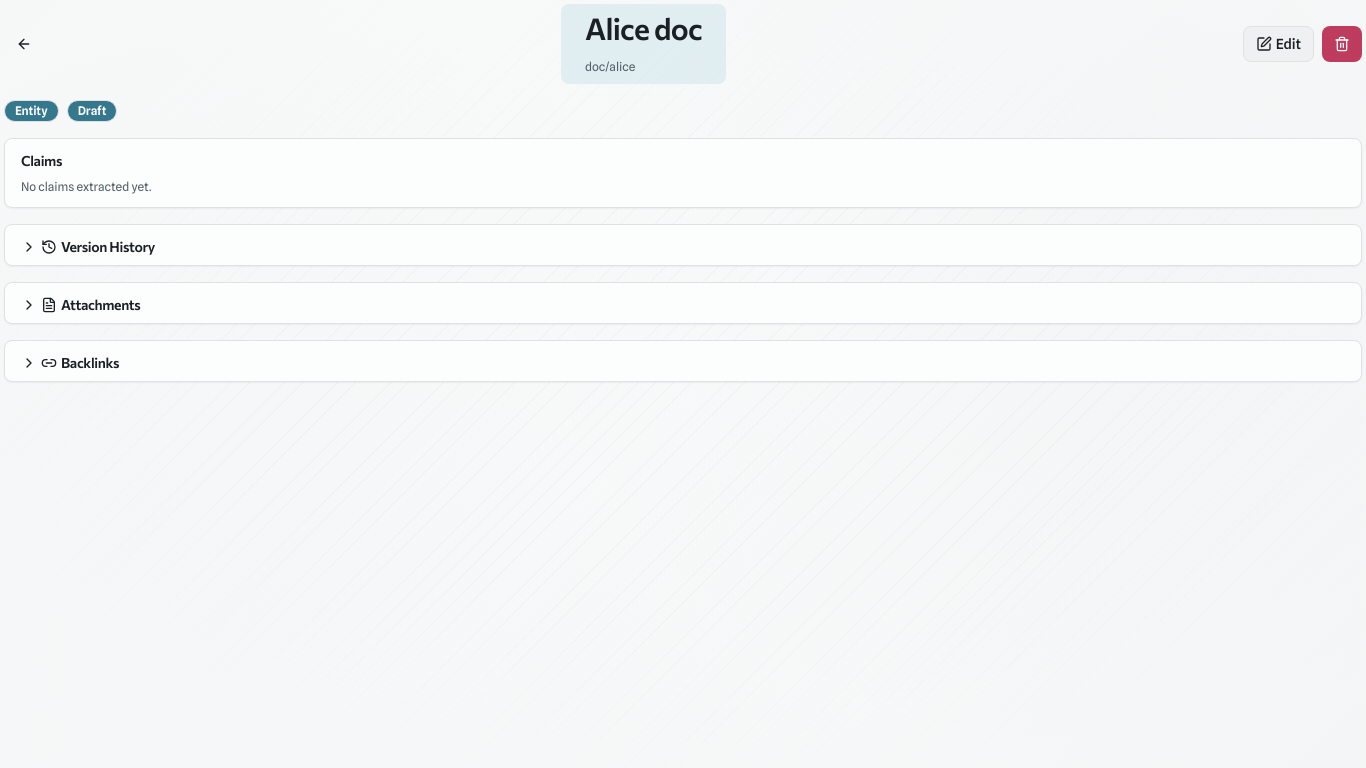
Test case: issue 774 WikiPageDetail section failure states › shows a failure line, not the empty verdict, when attachments fail to load
The width and height of the screenshot is (1366, 768).
Click the text "Attachments".
click(81, 304)  # box [21,296,140,313]
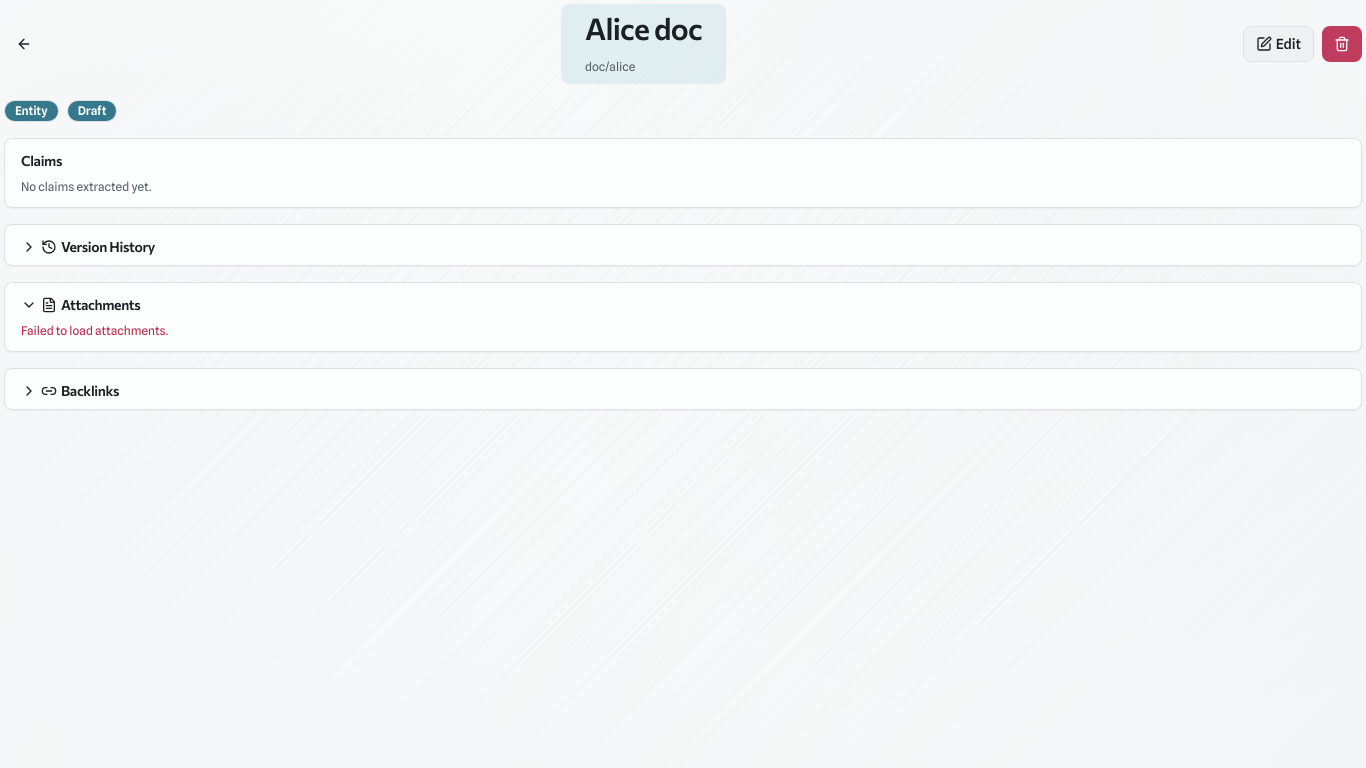
Expected: the message shows "Failed to load attachments", [21,323,168,338]
